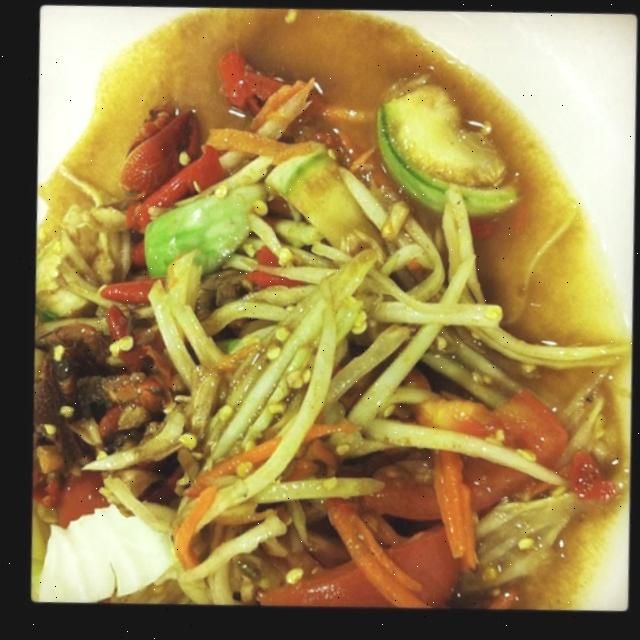蔬菜料理: (28, 17, 639, 621)
